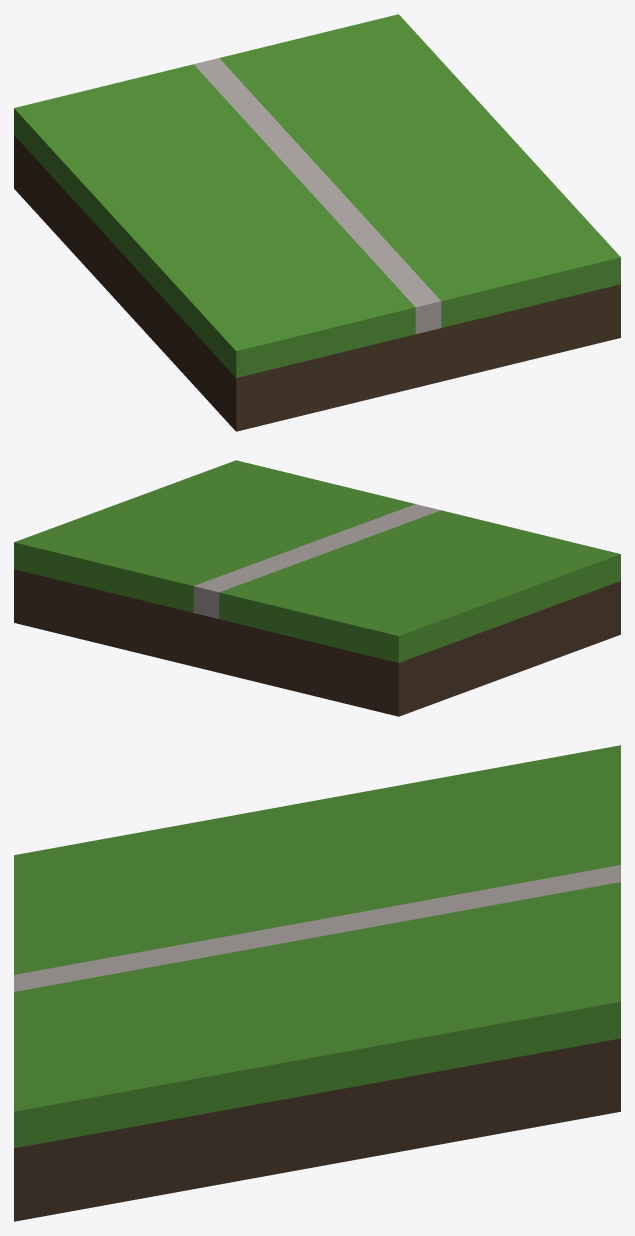
File: tiles_tile-sidewalk-hill.fbx
The picture shows the model from 3 angles, top to bottom: view 1: azimuth 30°, elevation 25°; view 2: azimuth 150°, elevation 25°; view 3: azimuth 270°, elevation 25°; orthographic projection. The views are drawn at different scales.
Parts seen in each view (by area): view 1: tiles_tile_sidewalk_hill; view 2: tiles_tile_sidewalk_hill; view 3: tiles_tile_sidewalk_hill.
Boxes of the visible parts, x1,y1,x2,y2 form: tiles_tile_sidewalk_hill: [14, 14, 620, 431]; tiles_tile_sidewalk_hill: [14, 460, 620, 716]; tiles_tile_sidewalk_hill: [14, 745, 620, 1221].
Size of the model in its own units: 200 by 80 by 200.
